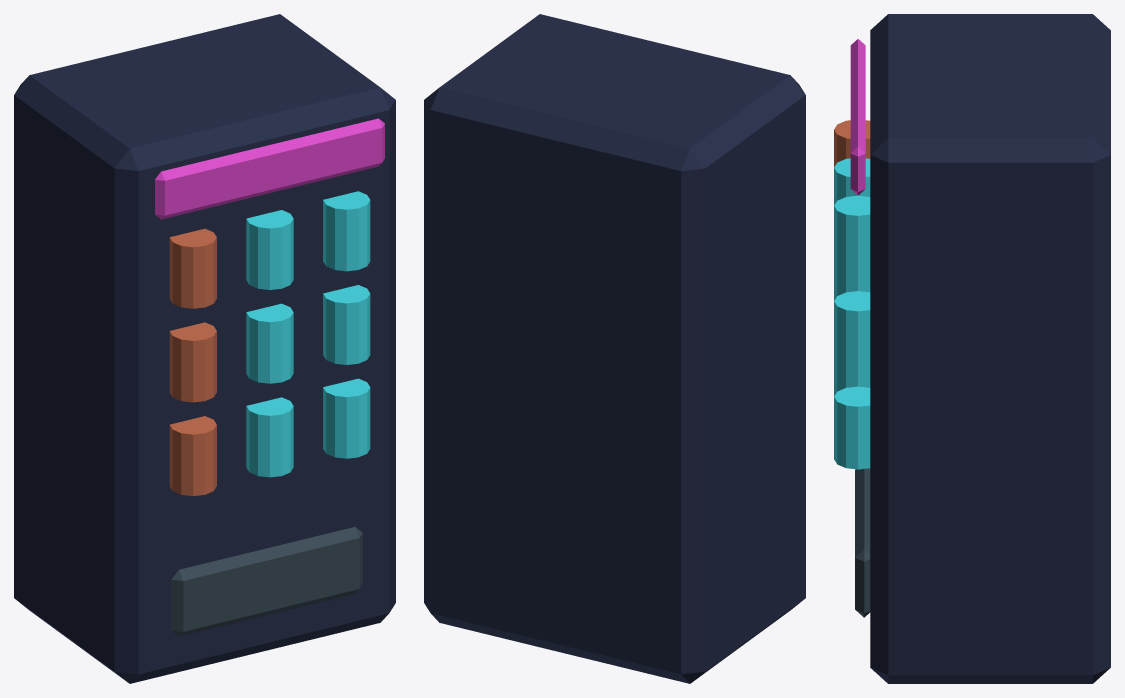
The model's file is vending-machine.glb.
3 views of the same model, side by side, from view 1: azimuth 30°, elevation 25°; view 2: azimuth 150°, elevation 25°; view 3: azimuth 270°, elevation 25° (orthographic).
Parts seen in each view (by area): view 1: vending-body, vending-output, vending-header, can.003, can.001, can.004, can.008, can.002, can.006, can.007, can, can.005; view 2: vending-body; view 3: vending-body, can.006, can.008, can.007, vending-header, vending-output, can.005, can.002, can.004, can.003.
Boxes of the visible parts, x1=… form: vending-body: x1=14, y1=14, x2=395, y2=683; vending-output: x1=171, y1=527, x2=362, y2=636; vending-header: x1=155, y1=118, x2=384, y2=219; can.003: x1=246, y1=397, x2=293, y2=477; can.001: x1=169, y1=322, x2=216, y2=402; can.004: x1=246, y1=303, x2=293, y2=383; can.008: x1=323, y1=191, x2=370, y2=271; can.002: x1=169, y1=228, x2=216, y2=308; can.006: x1=323, y1=378, x2=370, y2=458; can.007: x1=323, y1=285, x2=370, y2=364; can: x1=169, y1=416, x2=216, y2=496; can.005: x1=246, y1=210, x2=293, y2=289; vending-body: x1=424, y1=14, x2=805, y2=683; vending-body: x1=870, y1=14, x2=1110, y2=683; can.006: x1=834, y1=386, x2=870, y2=469; can.008: x1=834, y1=195, x2=870, y2=278; can.007: x1=834, y1=291, x2=870, y2=373; vending-header: x1=850, y1=39, x2=865, y2=195; vending-output: x1=855, y1=468, x2=870, y2=617; can.005: x1=834, y1=158, x2=870, y2=205; can.002: x1=834, y1=120, x2=870, y2=167; can.004: x1=834, y1=269, x2=870, y2=300; can.003: x1=834, y1=364, x2=870, y2=396.
Size of the model in its own units: 1.1 by 2 by 0.92.
